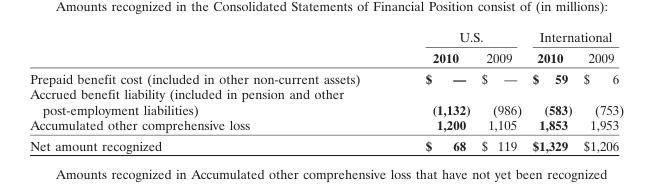table: (29, 28, 623, 153)
table column: (29, 28, 392, 153), (392, 28, 475, 153), (475, 28, 526, 153), (526, 28, 577, 153), (577, 28, 623, 153)
table column header: (29, 28, 623, 67)
table row: (29, 85, 623, 116), (29, 47, 623, 67), (29, 28, 623, 47), (29, 134, 623, 153), (29, 67, 623, 85), (29, 116, 623, 134)
table spanning cell: (392, 28, 526, 47), (526, 28, 623, 47)
